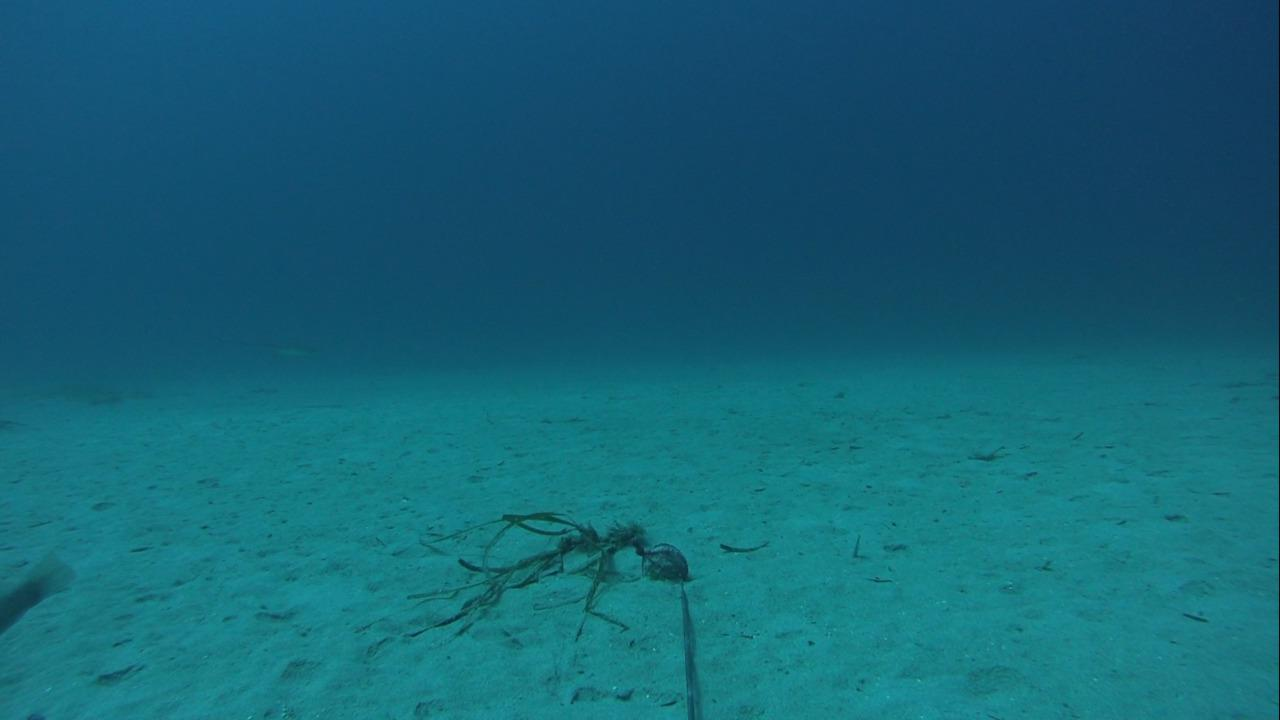myliobatis: (164, 321, 336, 375)
raor: (1, 551, 84, 636)
